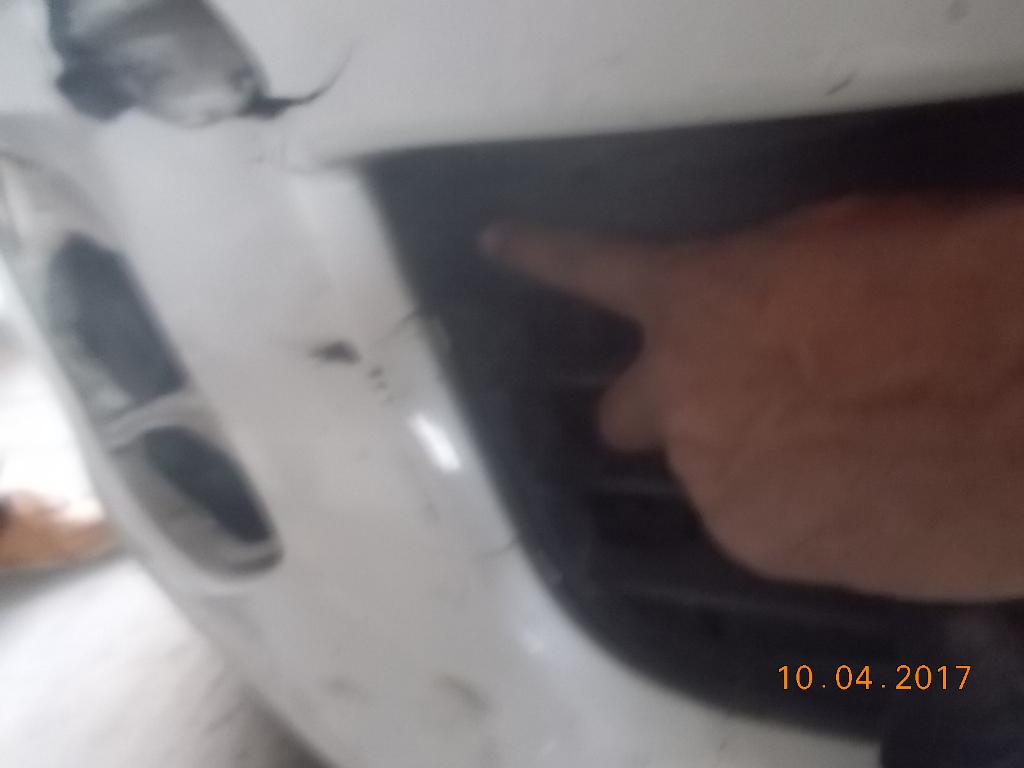Tear: (452, 290, 534, 440)
